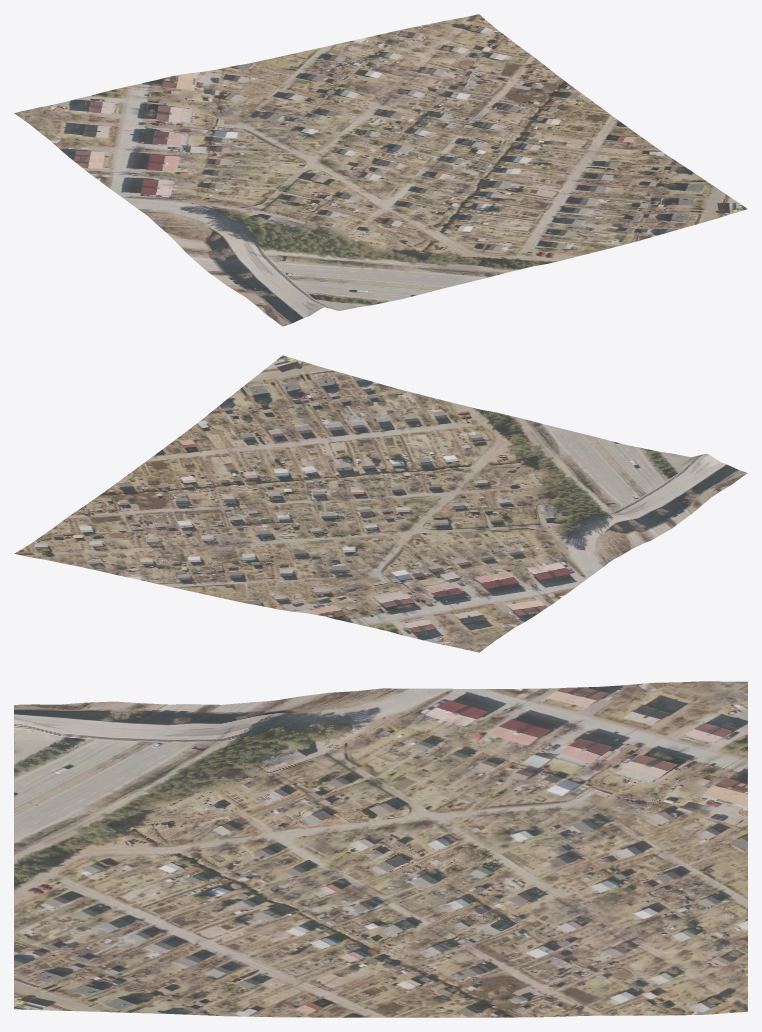
Rendered from CM_Terrain_24489434_6821636.fbx.
The picture shows the model from 3 angles, top to bottom: view 1: azimuth 30°, elevation 25°; view 2: azimuth 150°, elevation 25°; view 3: azimuth 270°, elevation 25°; orthographic projection. The views are drawn at different scales.
Parts seen in each view (by area): view 1: CM_Terrain_24489434_6821636_LOD0; view 2: CM_Terrain_24489434_6821636_LOD0; view 3: CM_Terrain_24489434_6821636_LOD0.
Boxes of the visible parts, <box> form: CM_Terrain_24489434_6821636_LOD0: <box>14,14,747,326</box>; CM_Terrain_24489434_6821636_LOD0: <box>14,355,747,652</box>; CM_Terrain_24489434_6821636_LOD0: <box>14,681,747,1017</box>.
Size of what is drawn, in the model's own units: 205 by 8.79 by 205.
